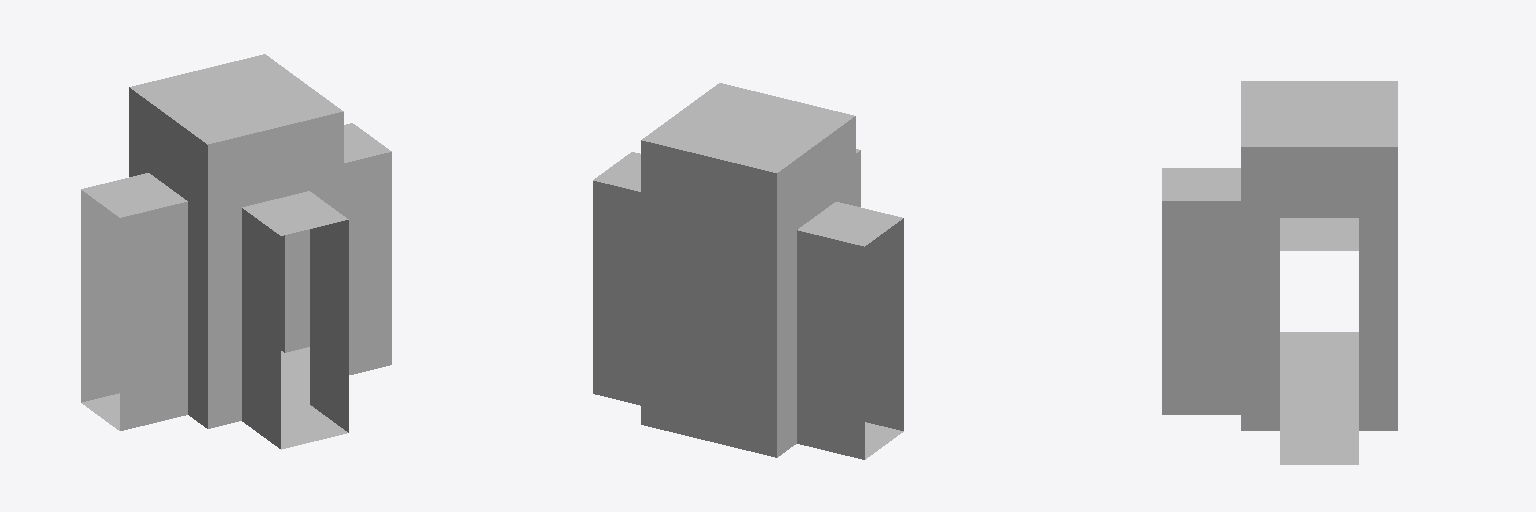
Rendered from FenceConnectedB.obj.
The picture shows the model from 3 angles: view 1: azimuth 30°, elevation 25°; view 2: azimuth 150°, elevation 25°; view 3: azimuth 270°, elevation 25°; orthographic projection.
Visible parts, largest first — view 1: cuboid; view 2: cuboid; view 3: cuboid.
Part boxes in pixels (left/top/right/bottom): cuboid: left=81, top=54, right=391, bottom=449; cuboid: left=593, top=83, right=903, bottom=459; cuboid: left=1162, top=81, right=1397, bottom=464.
Bounding box in the file's own units: 2 × 2 × 1.5.